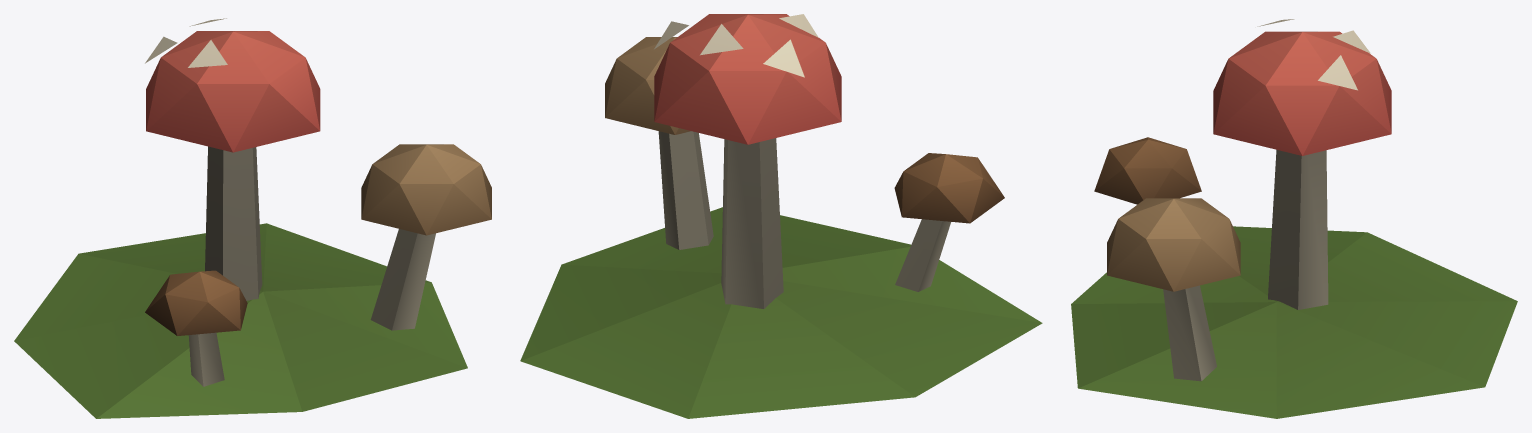
File: deco-mushroom.glb
3 renders of one model, left to right at view 1: azimuth 30°, elevation 25°; view 2: azimuth 150°, elevation 25°; view 3: azimuth 270°, elevation 25°, orthographic. The views are drawn at different scales.
Parts seen in each view (by area): view 1: 0_mushroom; view 2: 0_mushroom; view 3: 0_mushroom.
Part boxes in pixels (left/top/right/bottom): 0_mushroom: left=14, top=18, right=491, bottom=418; 0_mushroom: left=520, top=14, right=1042, bottom=418; 0_mushroom: left=1071, top=19, right=1517, bottom=418.
Size of the model in its own units: 0.5765 by 0.4017 by 0.5425.
